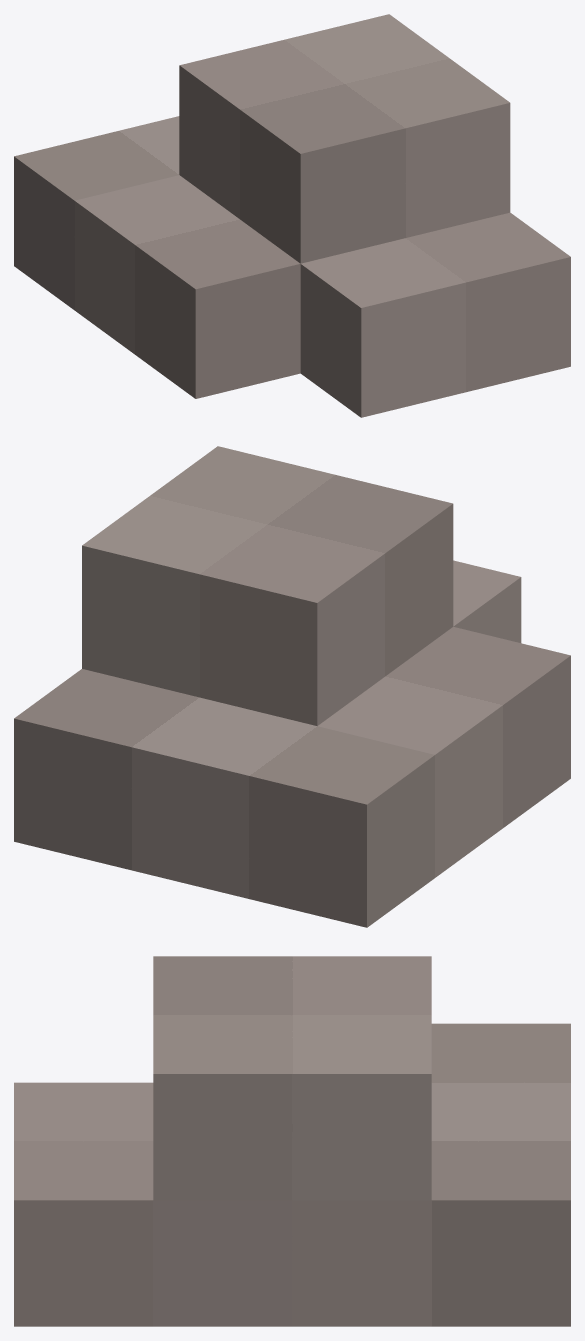
File: rocks_3 1.fbx
3 views of the same model, one above another, from view 1: azimuth 30°, elevation 25°; view 2: azimuth 150°, elevation 25°; view 3: azimuth 270°, elevation 25° (orthographic). The views are drawn at different scales.
Visible parts, largest first — view 1: rocks_3; view 2: rocks_3; view 3: rocks_3.
Boxes of the visible parts, left/top/right/bottom form: rocks_3: left=14, top=14, right=570, bottom=417; rocks_3: left=14, top=446, right=570, bottom=927; rocks_3: left=14, top=956, right=570, bottom=1326.
Size of the model in its own units: 3 by 2 by 4.
1 material, 1 textured.
